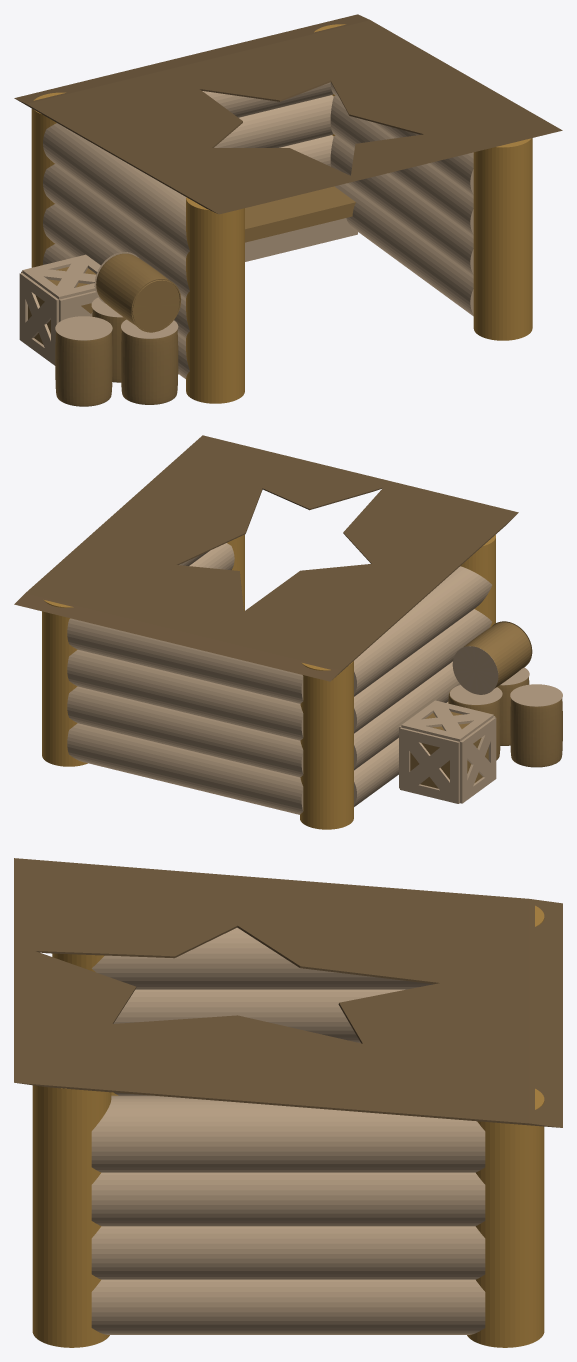
The model's file is smashing snicket (69).glb.
The picture shows the model from 3 angles, top to bottom: view 1: azimuth 30°, elevation 25°; view 2: azimuth 150°, elevation 25°; view 3: azimuth 270°, elevation 25°; orthographic projection. The views are drawn at different scales.
Parts seen in each view (by area): view 1: Mesh_Mesh_head_geo.001_lambert2SG.001; view 2: Mesh_Mesh_head_geo.001_lambert2SG.001; view 3: Mesh_Mesh_head_geo.001_lambert2SG.001.
Part boxes in pixels (x1,y1,x2,y2): Mesh_Mesh_head_geo.001_lambert2SG.001: (14, 14, 562, 406); Mesh_Mesh_head_geo.001_lambert2SG.001: (14, 435, 562, 829); Mesh_Mesh_head_geo.001_lambert2SG.001: (14, 858, 562, 1347).
Bounding box in the file's own units: 0.035 × 0.0153 × 0.0279.
